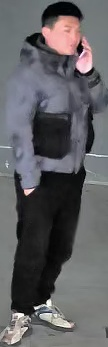phone: (48, 22, 107, 120)
